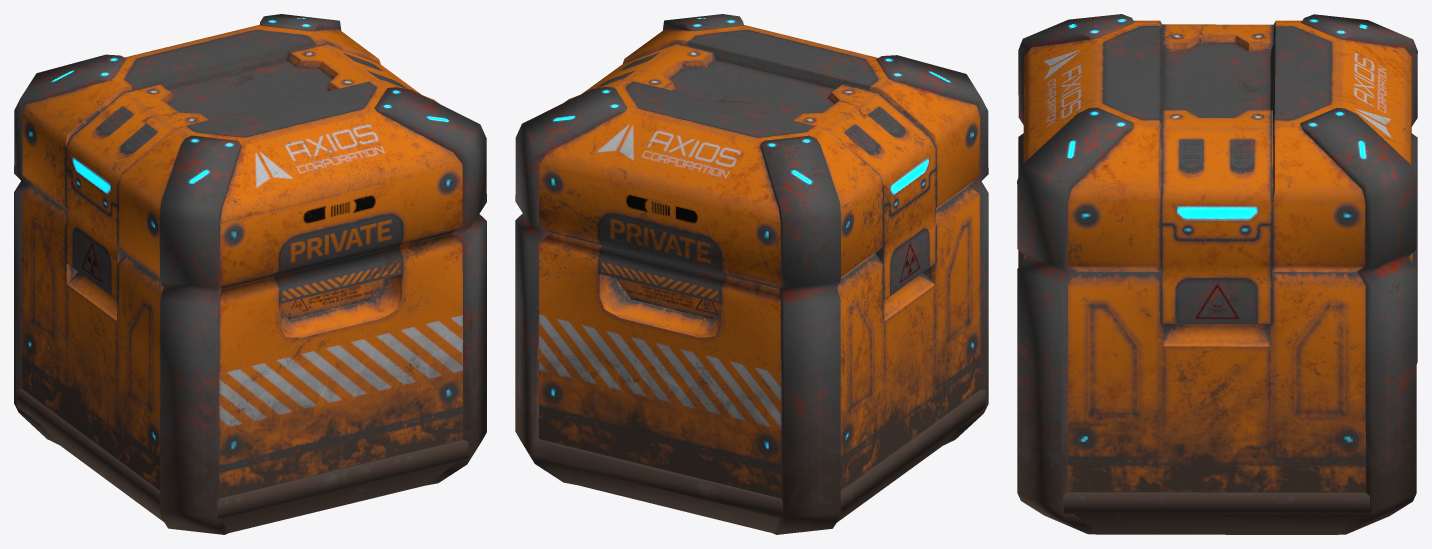
File: scifiCrate1.glb
3 renders of one model, left to right at view 1: azimuth 30°, elevation 25°; view 2: azimuth 150°, elevation 25°; view 3: azimuth 270°, elevation 25°, orthographic. The views are drawn at different scales.
Parts seen in each view (by area): view 1: Object_2; view 2: Object_2; view 3: Object_2.
Boxes of the visible parts, x1=… form: Object_2: x1=14, y1=14, x2=486, y2=534; Object_2: x1=515, y1=14, x2=988, y2=534; Object_2: x1=1017, y1=14, x2=1417, y2=534.
Bounding box in the file's own units: 103 × 112 × 103.
1 material, 1 textured.
